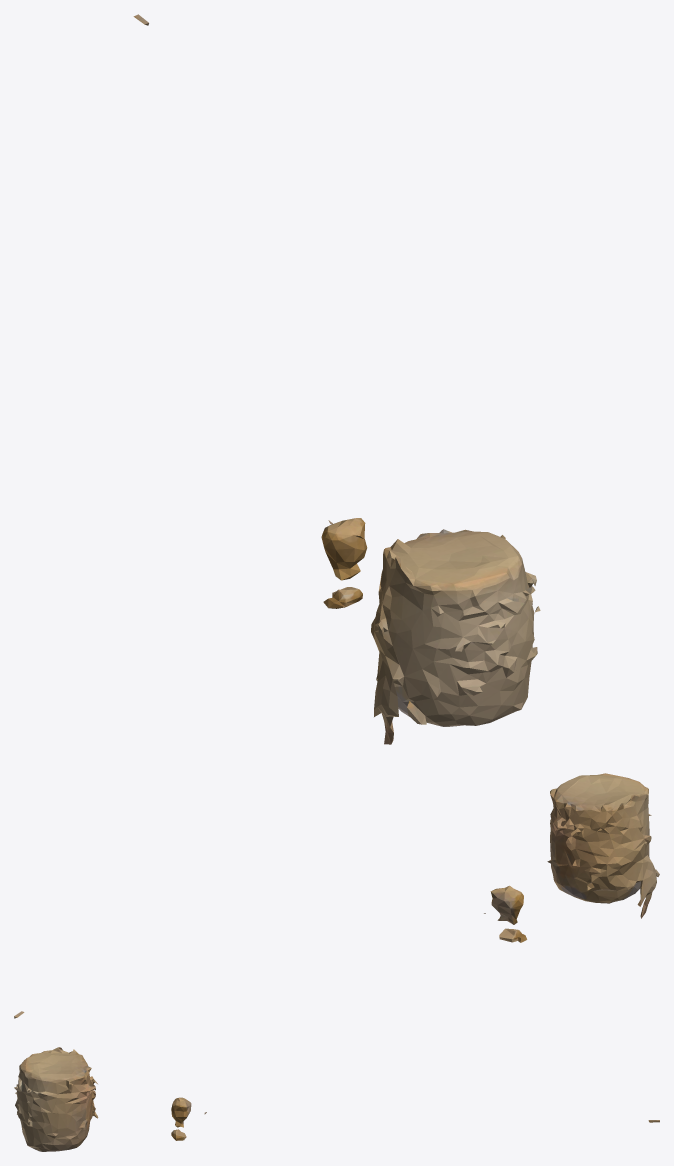
File: hay_bale.glb
3 views of the same model, one above another, from view 1: azimuth 30°, elevation 25°; view 2: azimuth 150°, elevation 25°; view 3: azimuth 270°, elevation 25° (orthographic). The views are drawn at different scales.
Parts seen in each view (by area): view 1: textured_mesh.obj; view 2: textured_mesh.obj; view 3: textured_mesh.obj.
Part boxes in pixels (x1,y1,x2,y2): textured_mesh.obj: [133, 14, 540, 744]; textured_mesh.obj: [14, 773, 659, 1018]; textured_mesh.obj: [14, 1047, 659, 1151].
Size of the model in its own units: 1.3 by 0.7 by 4.01.
Materials: 1 (1 with a texture image).
